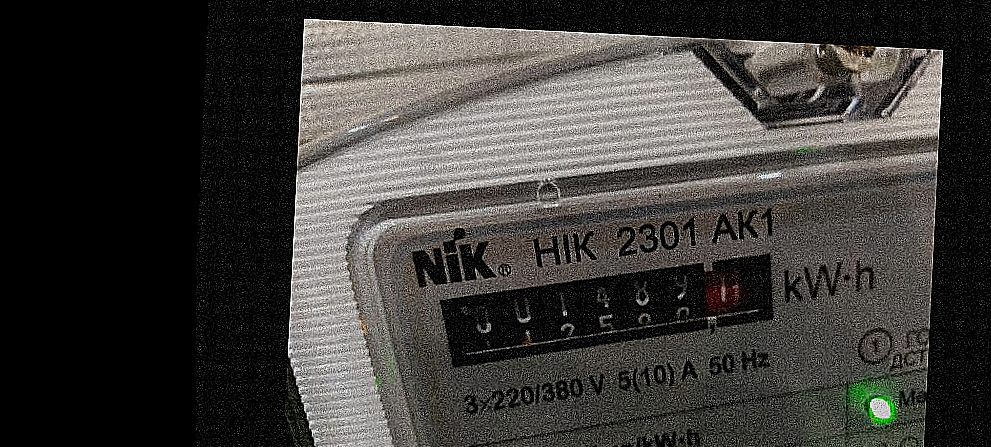0: (508, 288, 536, 325), (469, 300, 495, 336)
1: (712, 266, 733, 304), (552, 286, 574, 318)
4: (591, 278, 614, 310)
8: (631, 272, 654, 309)
9: (670, 267, 692, 300)
screen: (424, 226, 806, 395)
